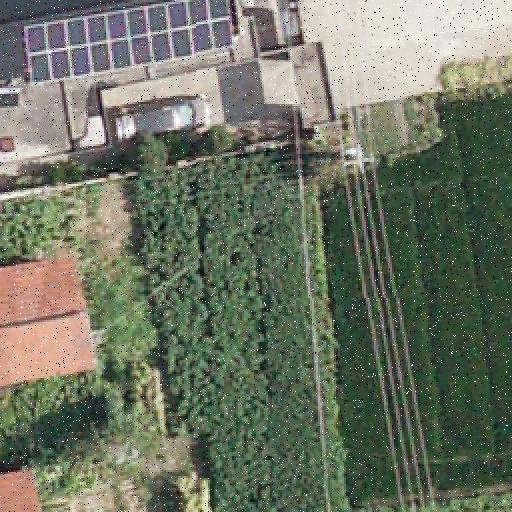solar-panel: (14, 0, 234, 86)
